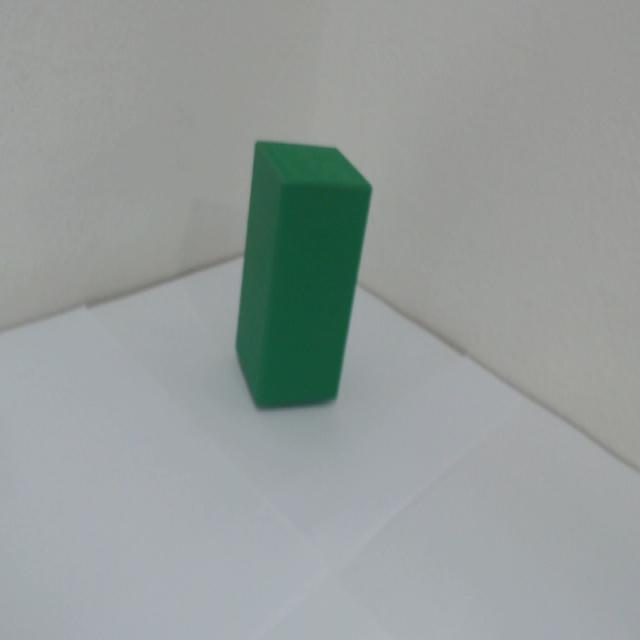cube: (209, 74, 378, 439)
